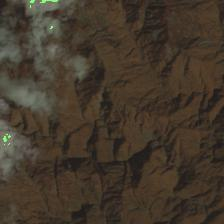landslides: (197, 40, 219, 48), (90, 37, 115, 44), (0, 203, 14, 214)
